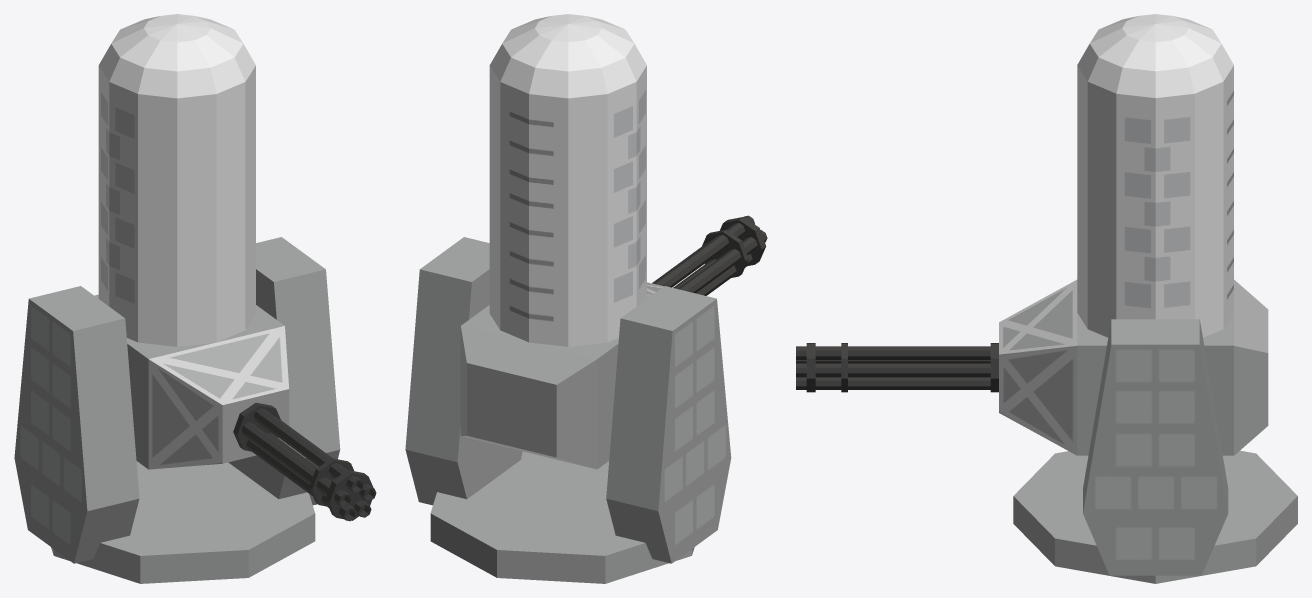
File: Turret_11.fbx
The picture shows the model from 3 angles, left to right: view 1: azimuth 30°, elevation 25°; view 2: azimuth 150°, elevation 25°; view 3: azimuth 270°, elevation 25°; orthographic projection.
Parts seen in each view (by area): view 1: Turret11_MainGunBody, Turret11_LowerBody, Turret11_MainGun; view 2: Turret11_MainGunBody, Turret11_LowerBody, Turret11_MainGun; view 3: Turret11_MainGunBody, Turret11_LowerBody, Turret11_MainGun.
Boxes of the visible parts, bbox=[...] form: Turret11_MainGunBody: bbox=[94, 14, 289, 469]; Turret11_LowerBody: bbox=[14, 237, 340, 583]; Turret11_MainGun: bbox=[233, 402, 376, 521]; Turret11_MainGunBody: bbox=[460, 14, 663, 469]; Turret11_LowerBody: bbox=[405, 237, 731, 583]; Turret11_MainGun: bbox=[652, 215, 767, 295]; Turret11_MainGunBody: bbox=[999, 14, 1268, 455]; Turret11_LowerBody: bbox=[1013, 319, 1297, 583]; Turret11_MainGun: bbox=[796, 343, 998, 392].
Size of the model in its own units: 53.7 by 102 by 92.58.
